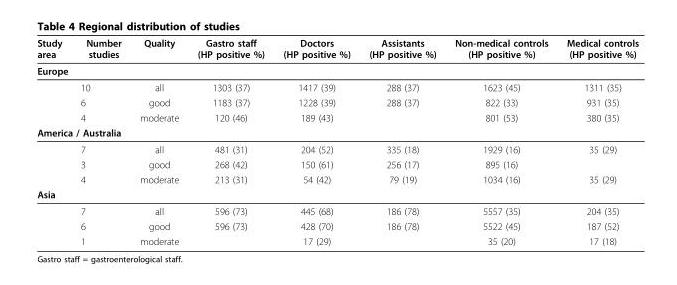table: (36, 36, 638, 246)
table column: (445, 36, 556, 246), (187, 36, 273, 246), (273, 36, 359, 246), (359, 36, 445, 246), (556, 36, 638, 246), (70, 36, 129, 246), (129, 36, 187, 246), (36, 36, 70, 246)
table column header: (36, 36, 638, 62)
table projected row header: (36, 62, 638, 78), (36, 124, 638, 140), (36, 186, 638, 202)
table row: (36, 36, 638, 62), (36, 62, 638, 78), (36, 78, 638, 94), (36, 124, 638, 140), (36, 140, 638, 156), (36, 186, 638, 202), (36, 202, 638, 218), (36, 94, 638, 109), (36, 109, 638, 124), (36, 156, 638, 171), (36, 171, 638, 186), (36, 218, 638, 233), (36, 233, 638, 246)
